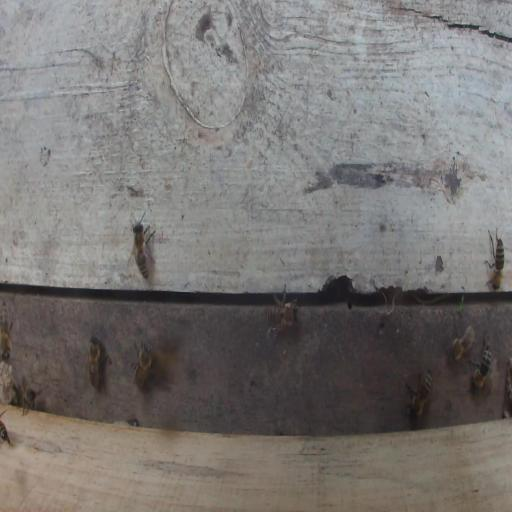bee: (125, 208, 157, 283), (262, 281, 301, 341), (466, 332, 493, 392), (130, 332, 156, 393), (404, 368, 433, 422), (484, 227, 506, 293), (87, 333, 111, 393), (447, 324, 477, 364), (22, 373, 44, 418), (0, 300, 14, 364)
